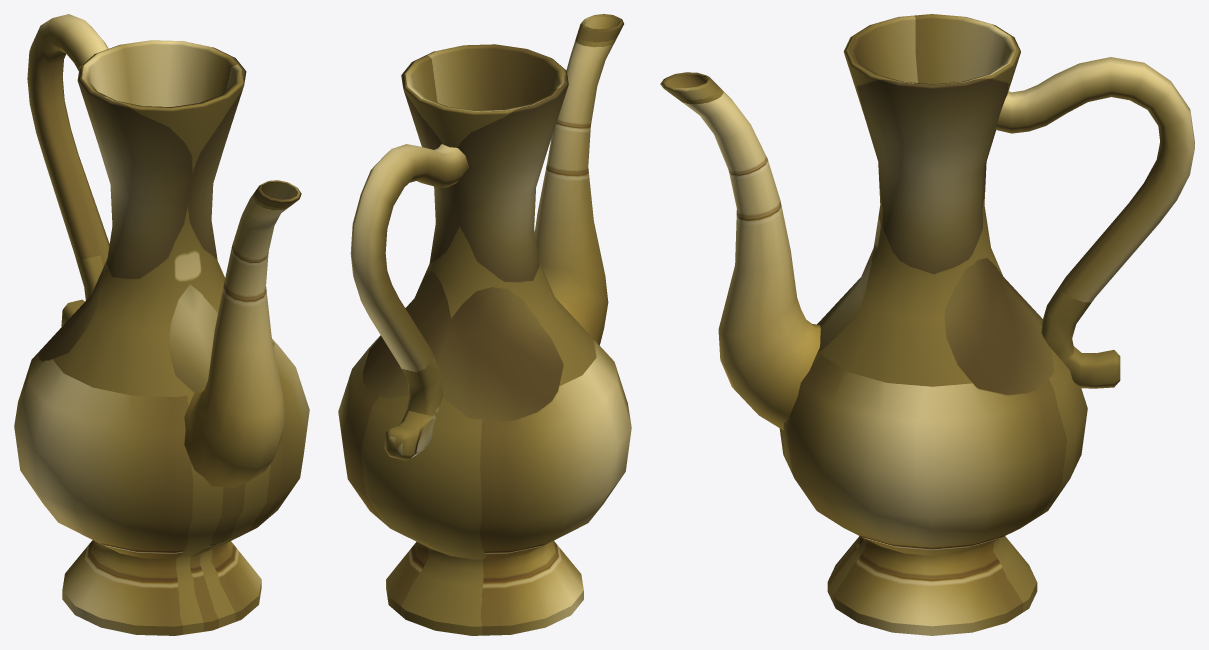
The model's file is Turkish_Kettle_01.fbx.
3 renders of one model, left to right at view 1: azimuth 30°, elevation 25°; view 2: azimuth 150°, elevation 25°; view 3: azimuth 270°, elevation 25°, orthographic. The views are drawn at different scales.
Parts seen in each view (by area): view 1: Turkish_Kettle_01; view 2: Turkish_Kettle_01; view 3: Turkish_Kettle_01.
Boxes of the visible parts, bbox=[...] form: Turkish_Kettle_01: bbox=[14, 14, 309, 635]; Turkish_Kettle_01: bbox=[338, 14, 631, 635]; Turkish_Kettle_01: bbox=[660, 14, 1194, 635].
Size of the model in its own units: 41.6 by 80.04 by 71.55.
